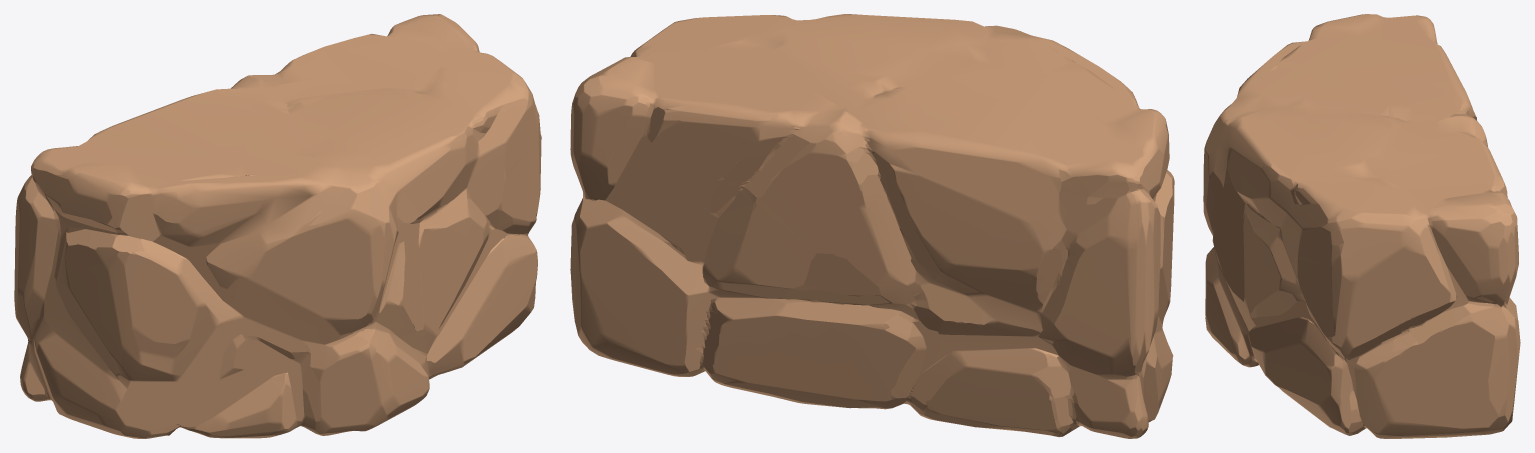
The picture shows the model from 3 angles, left to right: view 1: azimuth 30°, elevation 25°; view 2: azimuth 150°, elevation 25°; view 3: azimuth 270°, elevation 25°; orthographic projection. The views are drawn at different scales.
Visible parts, largest first — view 1: Mesh_12_LOD0; view 2: Mesh_12_LOD0; view 3: Mesh_12_LOD0.
Boxes of the visible parts, bbox=[...] form: Mesh_12_LOD0: bbox=[14, 14, 541, 438]; Mesh_12_LOD0: bbox=[570, 14, 1174, 438]; Mesh_12_LOD0: bbox=[1203, 14, 1520, 438].
Size of what is drawn, in the model's own units: 3143 by 1638 by 1945.
